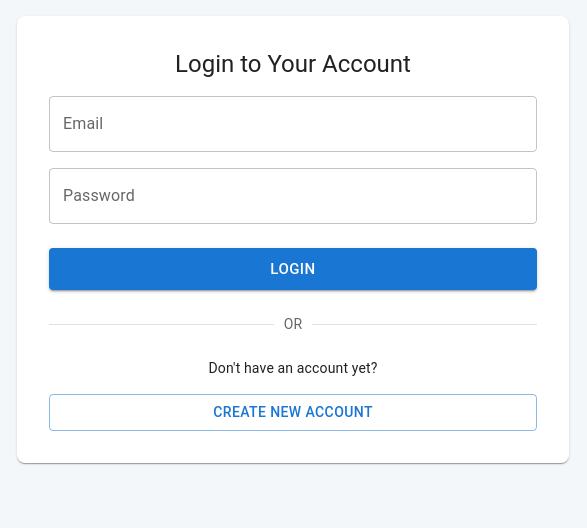
Test case: Login Component › shows required error when email is empty
What coordinates should you click on to do the following:
click the button "Login"
I would click on:
 (293, 269)
Its box is [49, 248, 537, 290].
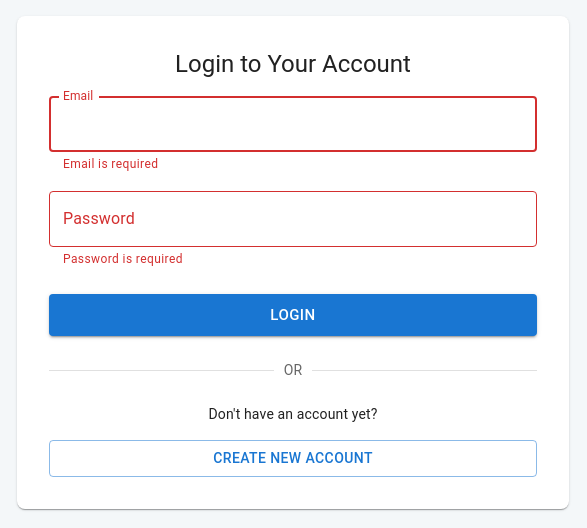
Check: the text "Email is required" is shown, box [63, 157, 158, 171]
